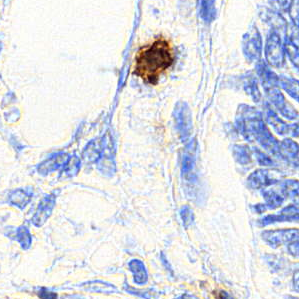Lymphocyte: (135, 39, 174, 83)
